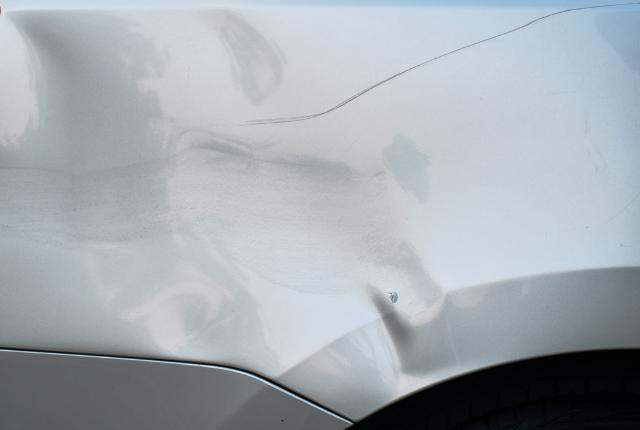dent: (0, 3, 462, 387)
scratch: (266, 0, 640, 126)
